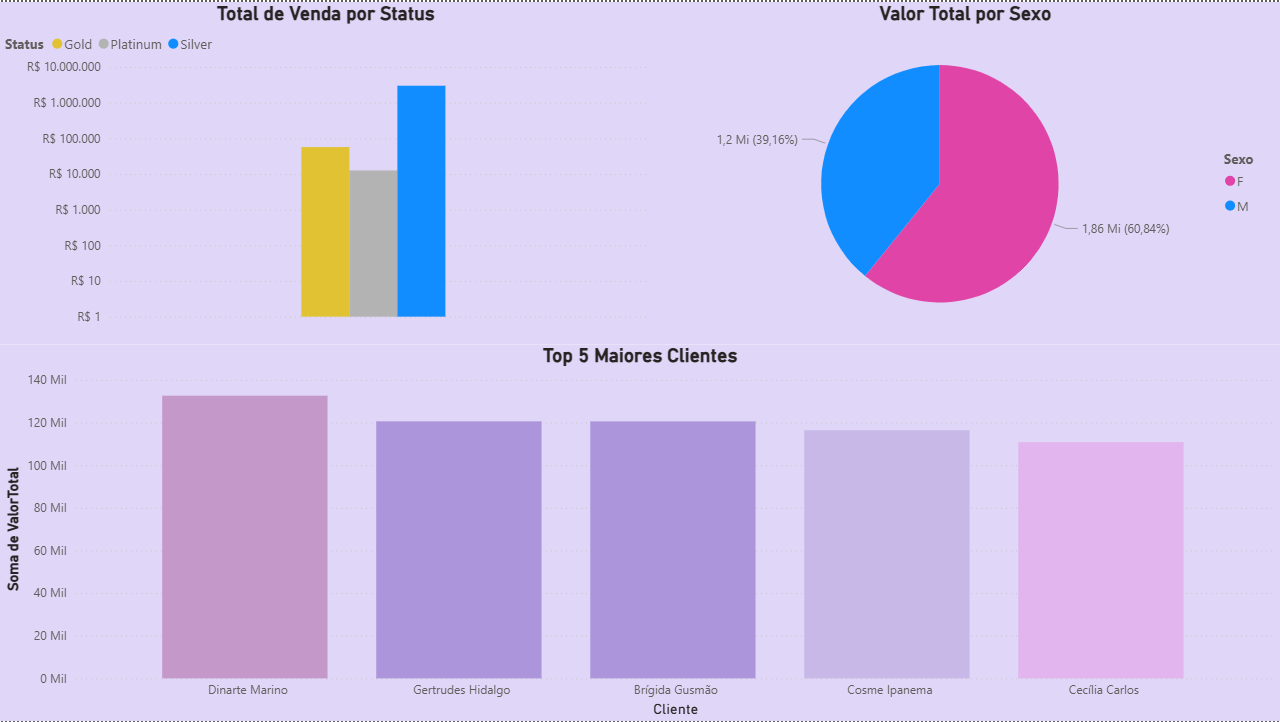

The page's visual inventory and layout, read from the dashboard file:
{"tool":"powerbi","page":{"name":"Clientes","canvas":[1280,720],"ordinal":0},"visuals":[{"type":"clusteredColumnChart","title":"Total de Venda por Status","fields":{"Y":["Sum(Vendas.Total)"],"Series":["Clientes.Status"]},"box":[0,0,651.8,342.4],"z":0},{"type":"pieChart","title":" Valor Total por Sexo","fields":{"Category":["Clientes.Sexo"],"Y":["Sum(ItensVendas.ValorTotal)"]},"box":[651.8,0,628.5,342.4],"z":1000},{"type":"clusteredColumnChart","title":"Top 5 Maiores Clientes","fields":{"Category":["Clientes.Cliente"],"Y":["Sum(ItensVendas.ValorTotal)"]},"box":[0,342.4,1280.3,377.9],"z":2000}]}

Visuals, with their boxes in screenshot pixels (x1, y1, x2, y2), scaled from the page's 1280x720 canvas onto the 1280x722 screenshot:
"Total de Venda por Status" clusteredColumnChart: (0, 0, 652, 343)
" Valor Total por Sexo" pieChart: (652, 0, 1279, 343)
"Top 5 Maiores Clientes" clusteredColumnChart: (0, 343, 1279, 721)
